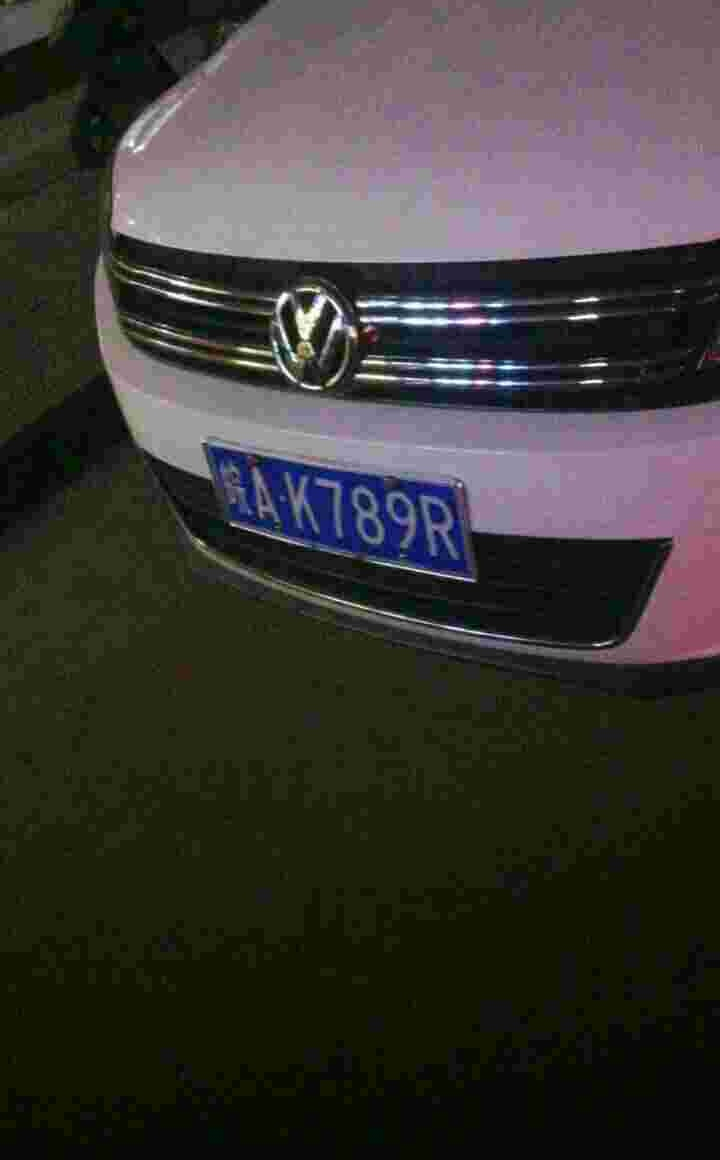license_plate: (199, 440, 468, 586)
